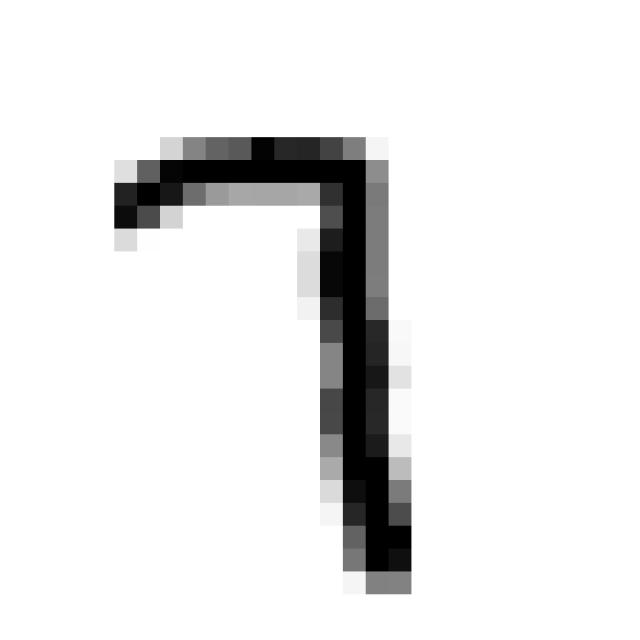6 -six-: (93, 112, 434, 608)
